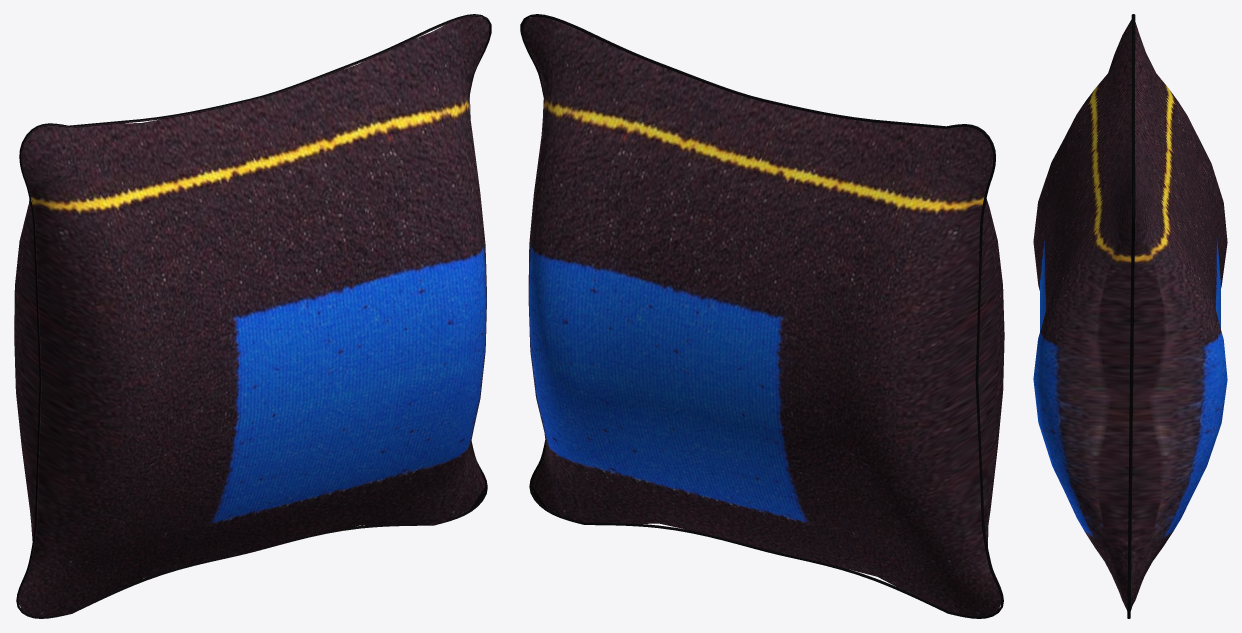
Rendered from Tulum_Cushion-Square.glb.
3 views of the same model, side by side, from view 1: azimuth 30°, elevation 25°; view 2: azimuth 150°, elevation 25°; view 3: azimuth 270°, elevation 25° (orthographic). The views are drawn at different scales.
Visible parts, largest first — view 1: Furniture - Throw Pillow - Blue#6; view 2: Furniture - Throw Pillow - Blue#6; view 3: Furniture - Throw Pillow - Blue#6.
Part boxes in pixels (<box>): Furniture - Throw Pillow - Blue#6: <box>14,14,491,618</box>; Furniture - Throw Pillow - Blue#6: <box>520,14,1004,618</box>; Furniture - Throw Pillow - Blue#6: <box>1033,14,1227,618</box>.
Size of the model in its own units: 0.5 by 0.5 by 0.2036.
Materials: 2 (1 with a texture image).
